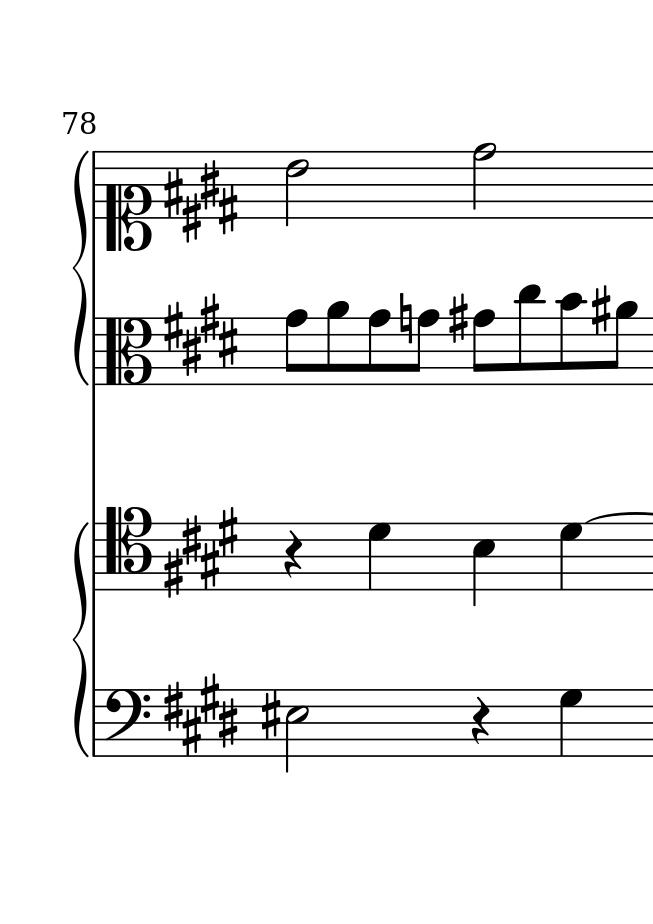2_5: (284, 688, 309, 774)
2_6: (285, 150, 309, 226)
2_8: (471, 141, 496, 220)
4_5: (471, 520, 496, 609)
4_7: (557, 689, 585, 758), (558, 522, 584, 592), (367, 522, 392, 592)
7: (61, 109, 78, 136)
8: (79, 110, 97, 136)
8_10: (559, 290, 583, 388)
8_11: (516, 281, 545, 389)
8_8: (410, 308, 439, 388), (284, 307, 309, 387), (471, 308, 495, 389), (367, 308, 391, 388)
8_9: (607, 301, 638, 388), (325, 301, 350, 386)
Brace: (70, 149, 91, 385), (72, 520, 91, 757)
Cclef: (103, 314, 152, 387)
E_S: (164, 507, 241, 598), (163, 674, 241, 756), (165, 294, 240, 376), (163, 158, 238, 238)
Fclef: (103, 687, 150, 757)
Natural: (399, 293, 414, 347)
Rests4: (281, 529, 305, 580), (469, 696, 492, 747)
Sharp: (448, 292, 469, 344), (590, 284, 611, 336), (260, 689, 281, 741)
Single_barline: (88, 523, 102, 591), (88, 152, 102, 218), (89, 316, 102, 387), (90, 688, 101, 757)
Soprano_Cclef: (104, 150, 151, 253)
Tensor_Cclef: (105, 506, 152, 590)
